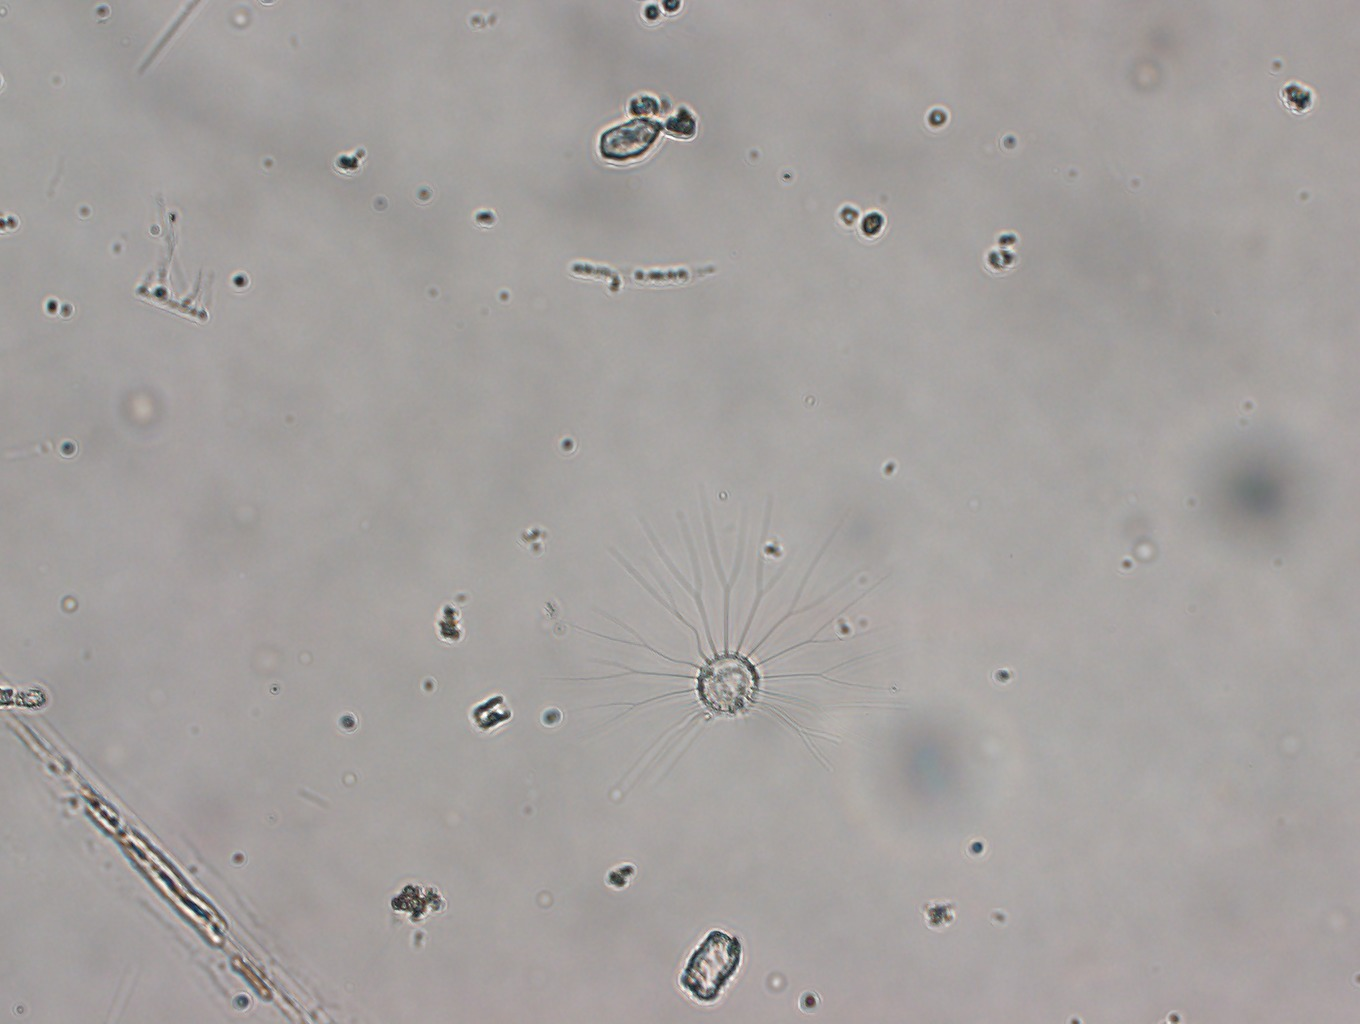bacteriastrum: (545, 480, 905, 800)
